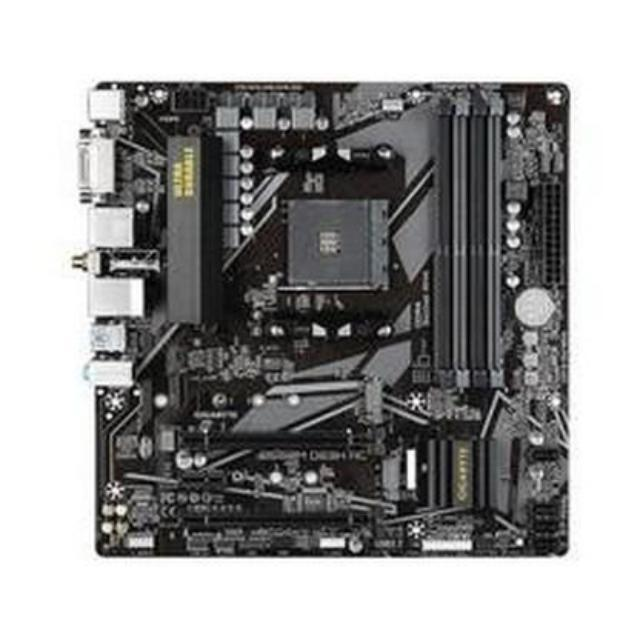Mainboard: (80, 75, 571, 562)
